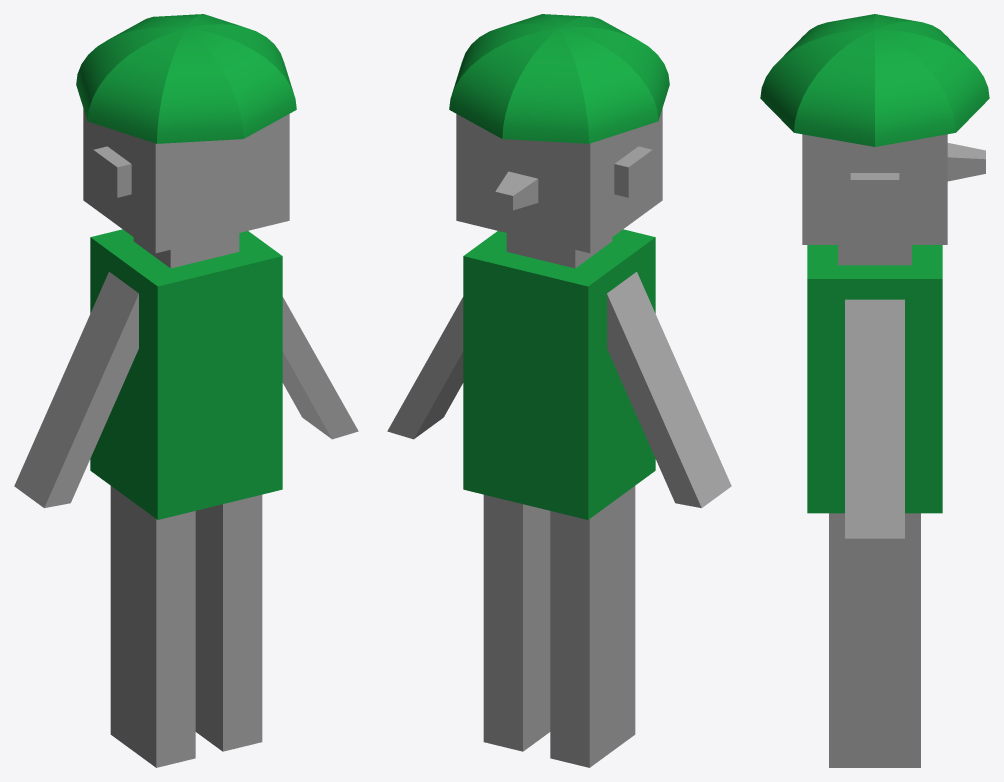
Rendered from Asset_NPC_Low_1.fbx.
3 views of the same model, side by side, from view 1: azimuth 30°, elevation 25°; view 2: azimuth 150°, elevation 25°; view 3: azimuth 270°, elevation 25° (orthographic).
Visible parts, largest first — view 1: NPC_1; view 2: NPC_1; view 3: NPC_1.
Boxes of the visible parts, x1,y1,x2,y2 form: NPC_1: (14, 14, 358, 767); NPC_1: (387, 14, 731, 767); NPC_1: (760, 14, 989, 767).
Bounding box in the file's own units: 0.7415 × 1.6 × 0.4664.
